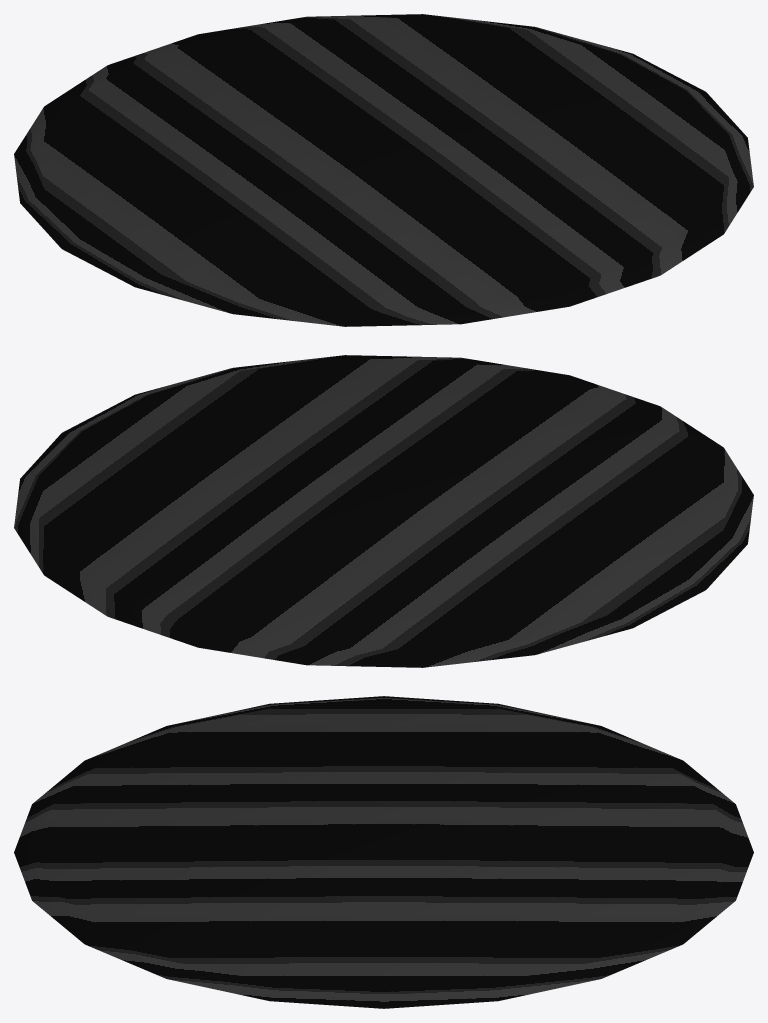
File: mnqn_pedestal.dae
The picture shows the model from 3 angles, top to bottom: view 1: azimuth 30°, elevation 25°; view 2: azimuth 150°, elevation 25°; view 3: azimuth 270°, elevation 25°; orthographic projection.
Visible parts, largest first — view 1: mnqn_pedestal; view 2: mnqn_pedestal; view 3: mnqn_pedestal.
Part boxes in pixels (box(x1,y1,x2,y2)): mnqn_pedestal: box(14, 14, 753, 326); mnqn_pedestal: box(14, 355, 753, 667); mnqn_pedestal: box(14, 696, 753, 1008).
Bounding box in the file's own units: 22.63 × 0.3701 × 22.63.
Materials: 1 (1 with a texture image).
